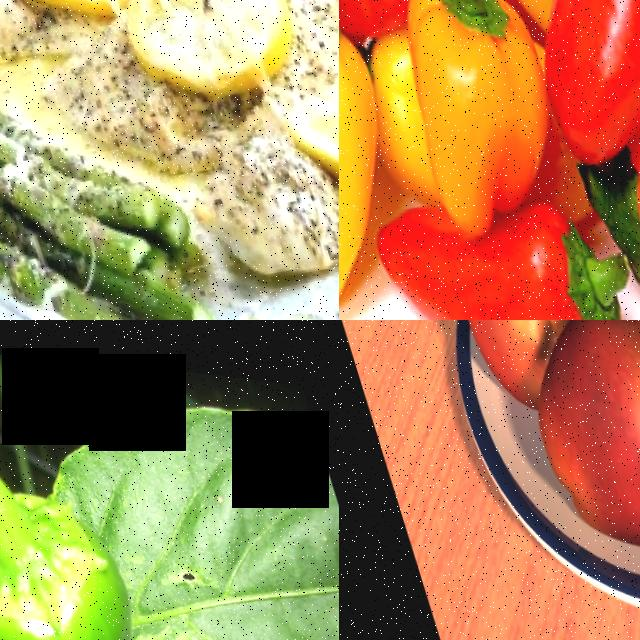apple: (489, 320, 640, 570), (431, 320, 577, 353)
bell pepper: (394, 0, 565, 207), (0, 457, 190, 640), (393, 181, 640, 320), (339, 0, 415, 294), (510, 0, 640, 134)
